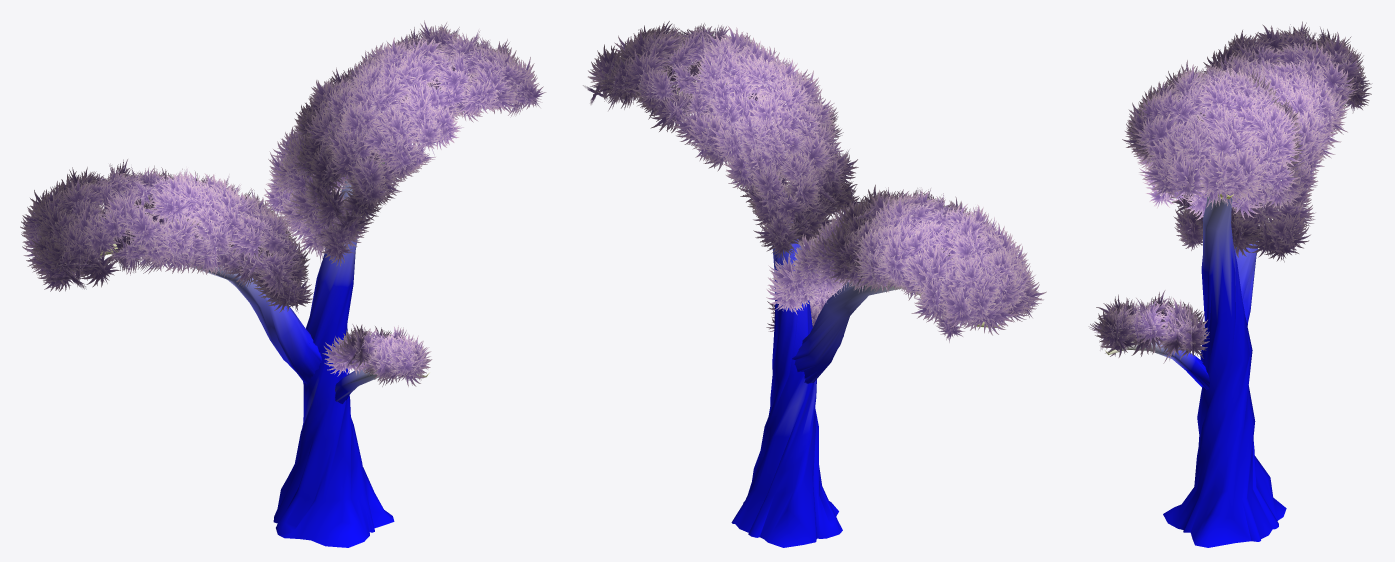
File: Birow3.fbx
The picture shows the model from 3 angles, left to right: view 1: azimuth 30°, elevation 25°; view 2: azimuth 150°, elevation 25°; view 3: azimuth 270°, elevation 25°; orthographic projection. The views are drawn at different scales.
Visible parts, largest first — view 1: Birow_3_LOD0; view 2: Birow_3_LOD0; view 3: Birow_3_LOD0.
Boxes of the visible parts, box(x1,y1,x2,y2) form: Birow_3_LOD0: box(20, 20, 546, 547); Birow_3_LOD0: box(583, 21, 1046, 547); Birow_3_LOD0: box(1088, 21, 1372, 547).
Size of what is drawn, in the model's own units: 816 by 780 by 425.
